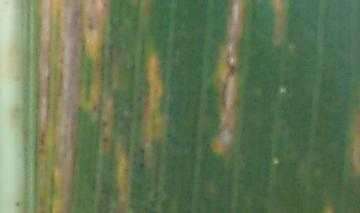tarspot: (100, 135, 110, 144), (137, 162, 146, 169), (164, 132, 172, 138), (14, 201, 21, 206)
